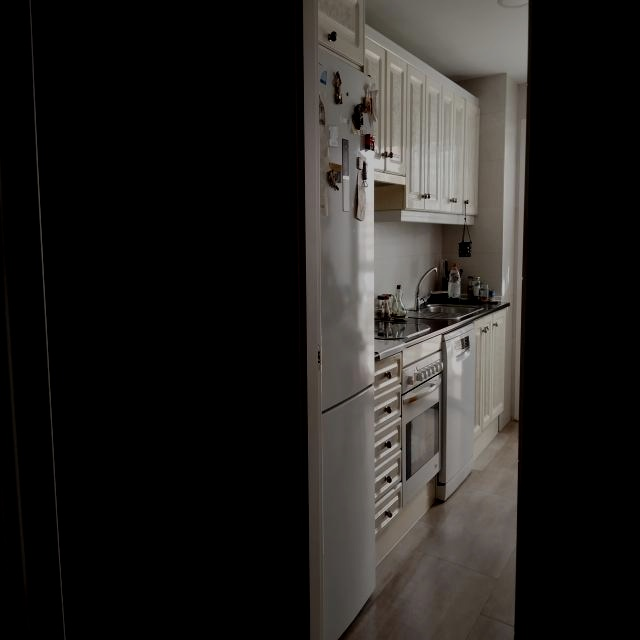cabinet: (365, 25, 480, 226), (374, 352, 403, 536), (474, 308, 508, 462)
countertop: (374, 302, 511, 360)
fridge: (303, 0, 376, 586)
oven: (402, 336, 443, 507)
shower: (412, 267, 483, 320)
sofa: (374, 321, 431, 340)
